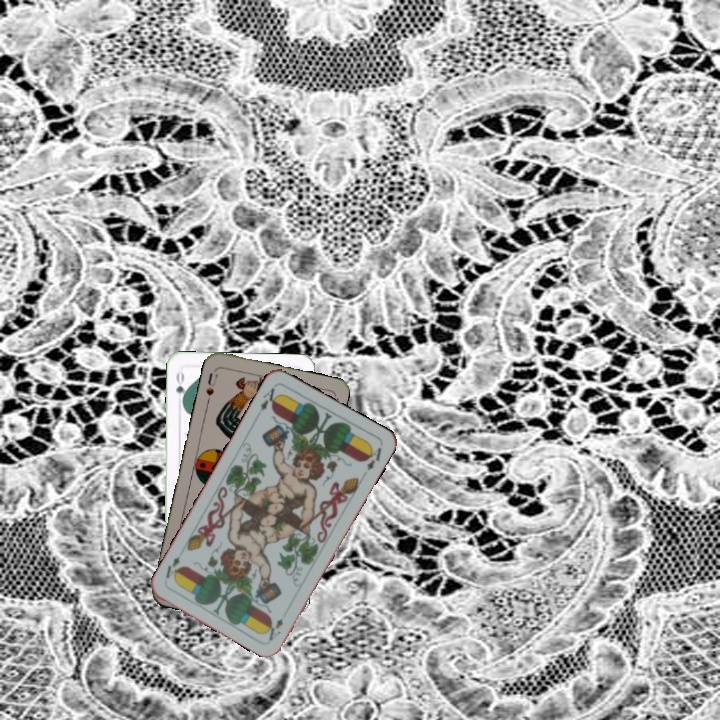EA: (256, 383, 282, 414), (263, 614, 286, 643)
GO: (171, 366, 189, 407)
SU: (202, 369, 220, 406)
